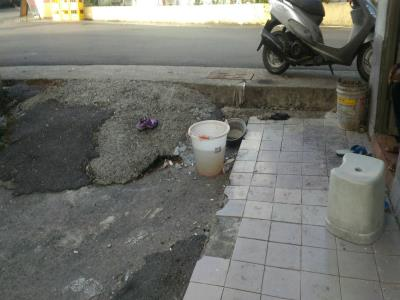bowl: (226, 116, 250, 147)
bucket: (186, 118, 232, 179), (334, 74, 372, 133)
